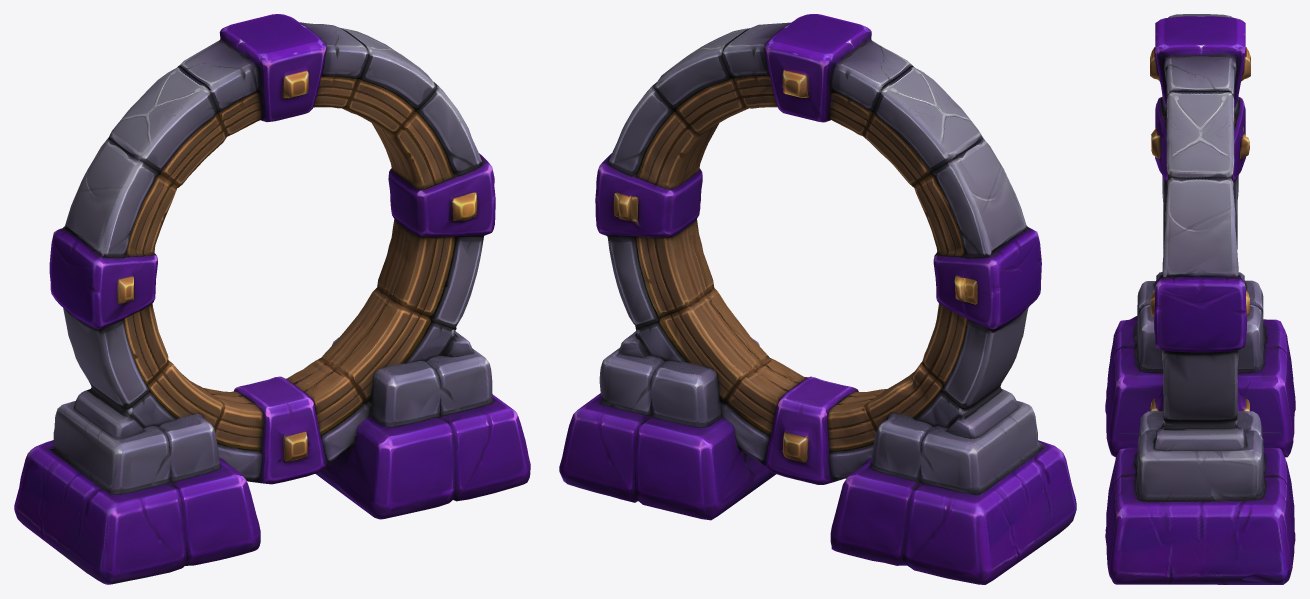
The model's file is portal_ring.glb.
3 renders of one model, left to right at view 1: azimuth 30°, elevation 25°; view 2: azimuth 150°, elevation 25°; view 3: azimuth 270°, elevation 25°, orthographic. The views are drawn at different scales.
Bounding box in the file's own units: 1.84 × 1.92 × 0.7224.
1 material, 1 textured.
